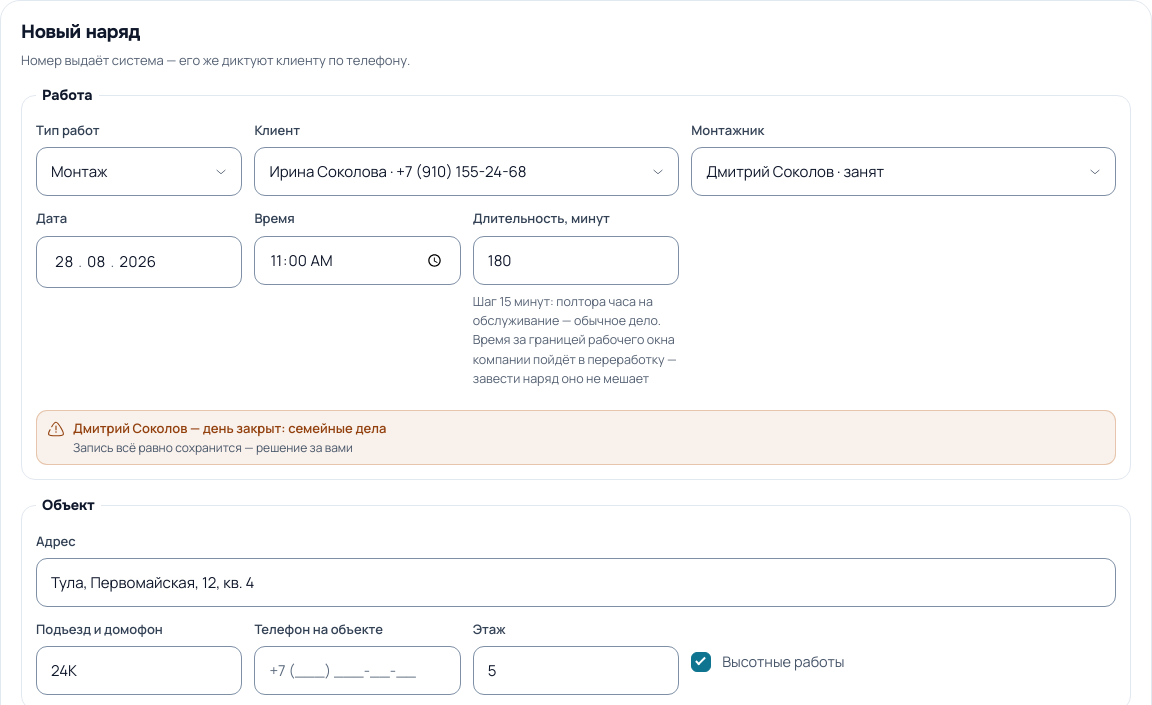
Scenario: Форма наряда: занятость монтажника › 🔴 занятость личная: чужой закрытый день о выбранном монтажнике не говорит
Select "Артём Белов" in the dropdown labelled "Монтажник" at coordinates (904, 172), box left=691, top=147, right=1116, bottom=196
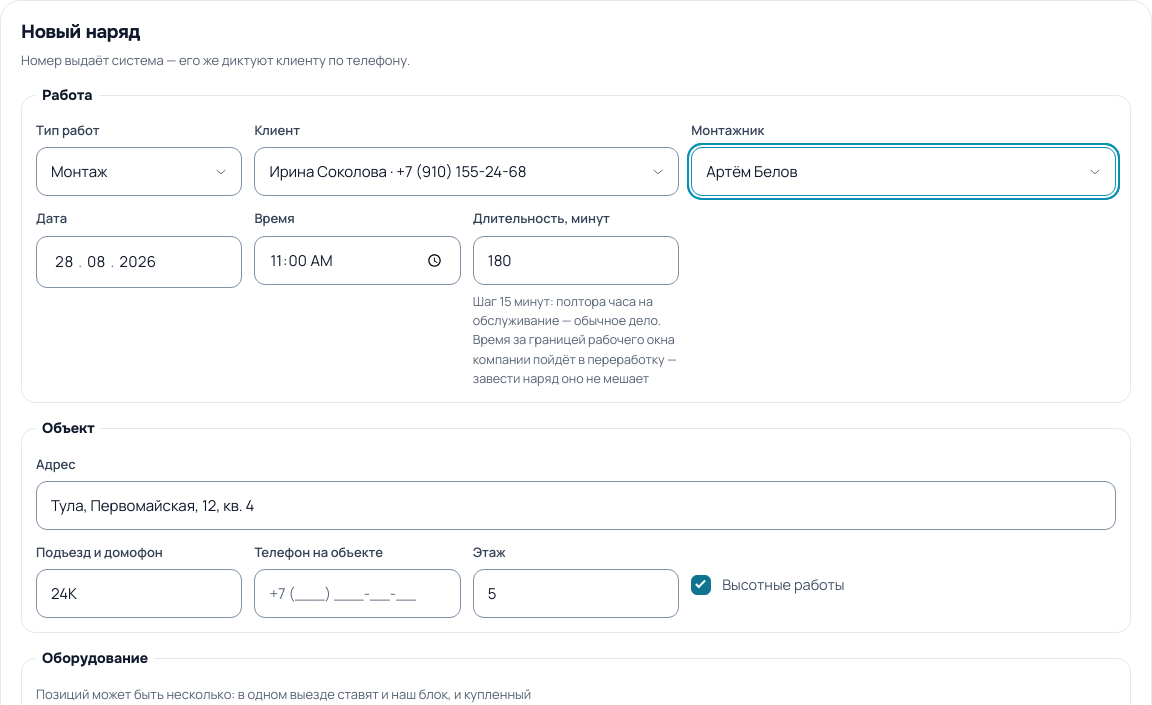
Expected: the message is gone
